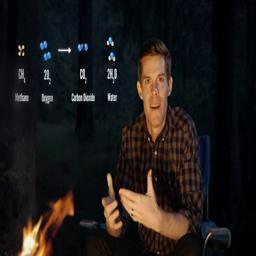fire: (19, 193, 75, 256)
